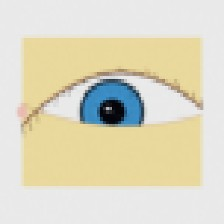pinguecula_lesion: (145, 95, 181, 124)
